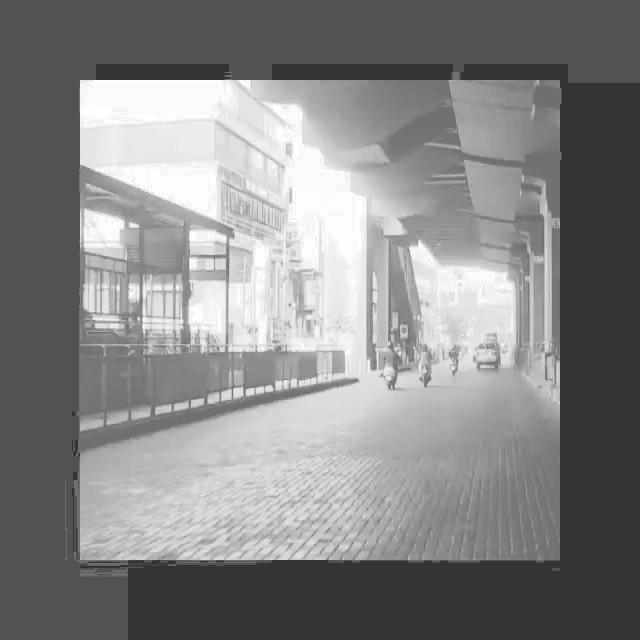Car: (469, 337, 507, 375)
